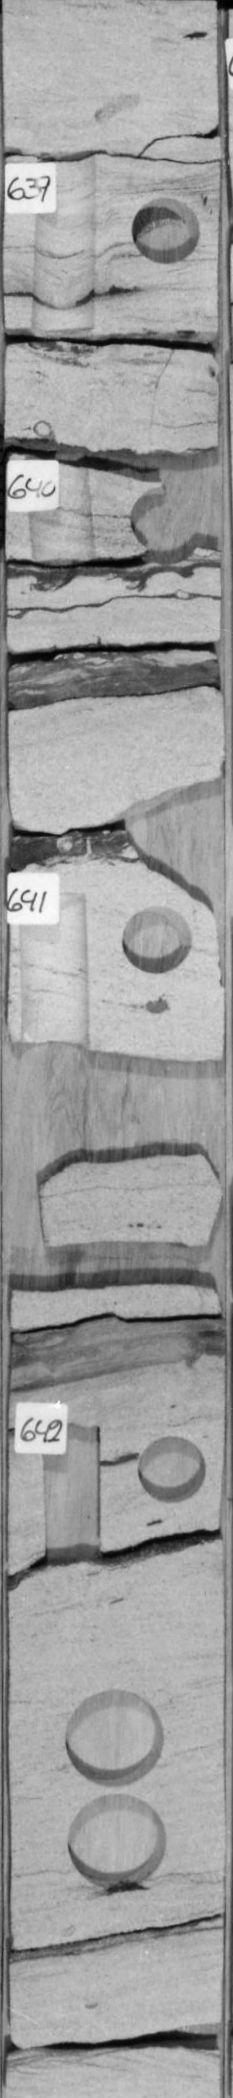hplug: (125, 191, 208, 269), (115, 902, 197, 979), (125, 482, 202, 562), (133, 1430, 208, 1507)
scal: (56, 1686, 165, 1793), (66, 1797, 171, 1897)
vplug: (28, 158, 102, 345), (15, 886, 95, 1049), (28, 1416, 108, 1569), (19, 439, 102, 571)
